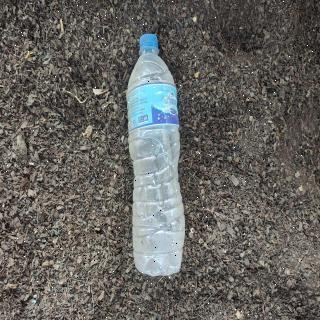Plastic-bottle: (123, 29, 192, 282)
